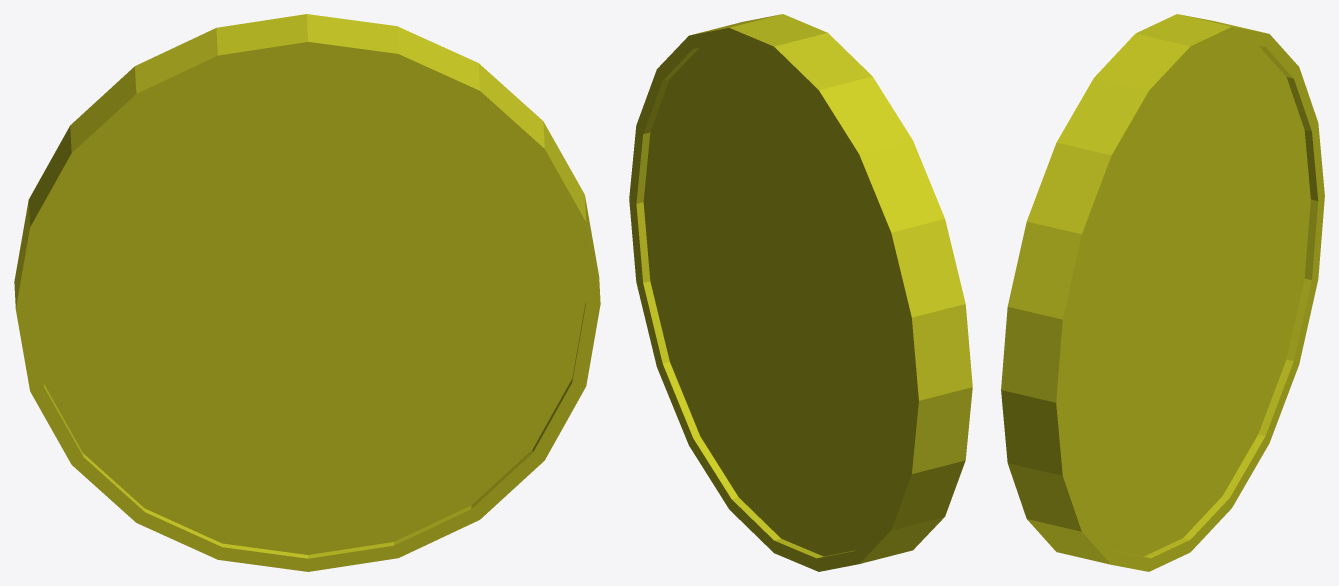
The model's file is Low Poly Coin_000066.obj.
The picture shows the model from 3 angles, left to right: view 1: azimuth 30°, elevation 25°; view 2: azimuth 150°, elevation 25°; view 3: azimuth 270°, elevation 25°; orthographic projection. The views are drawn at different scales.
Visible parts, largest first — view 1: Cylinder; view 2: Cylinder; view 3: Cylinder.
Part boxes in pixels (x1=…): Cylinder: x1=14, y1=14, x2=600, y2=571; Cylinder: x1=629, y1=14, x2=972, y2=571; Cylinder: x1=1001, y1=14, x2=1324, y2=571.
Bounding box in the file's own units: 1.86 × 2 × 1.16.
